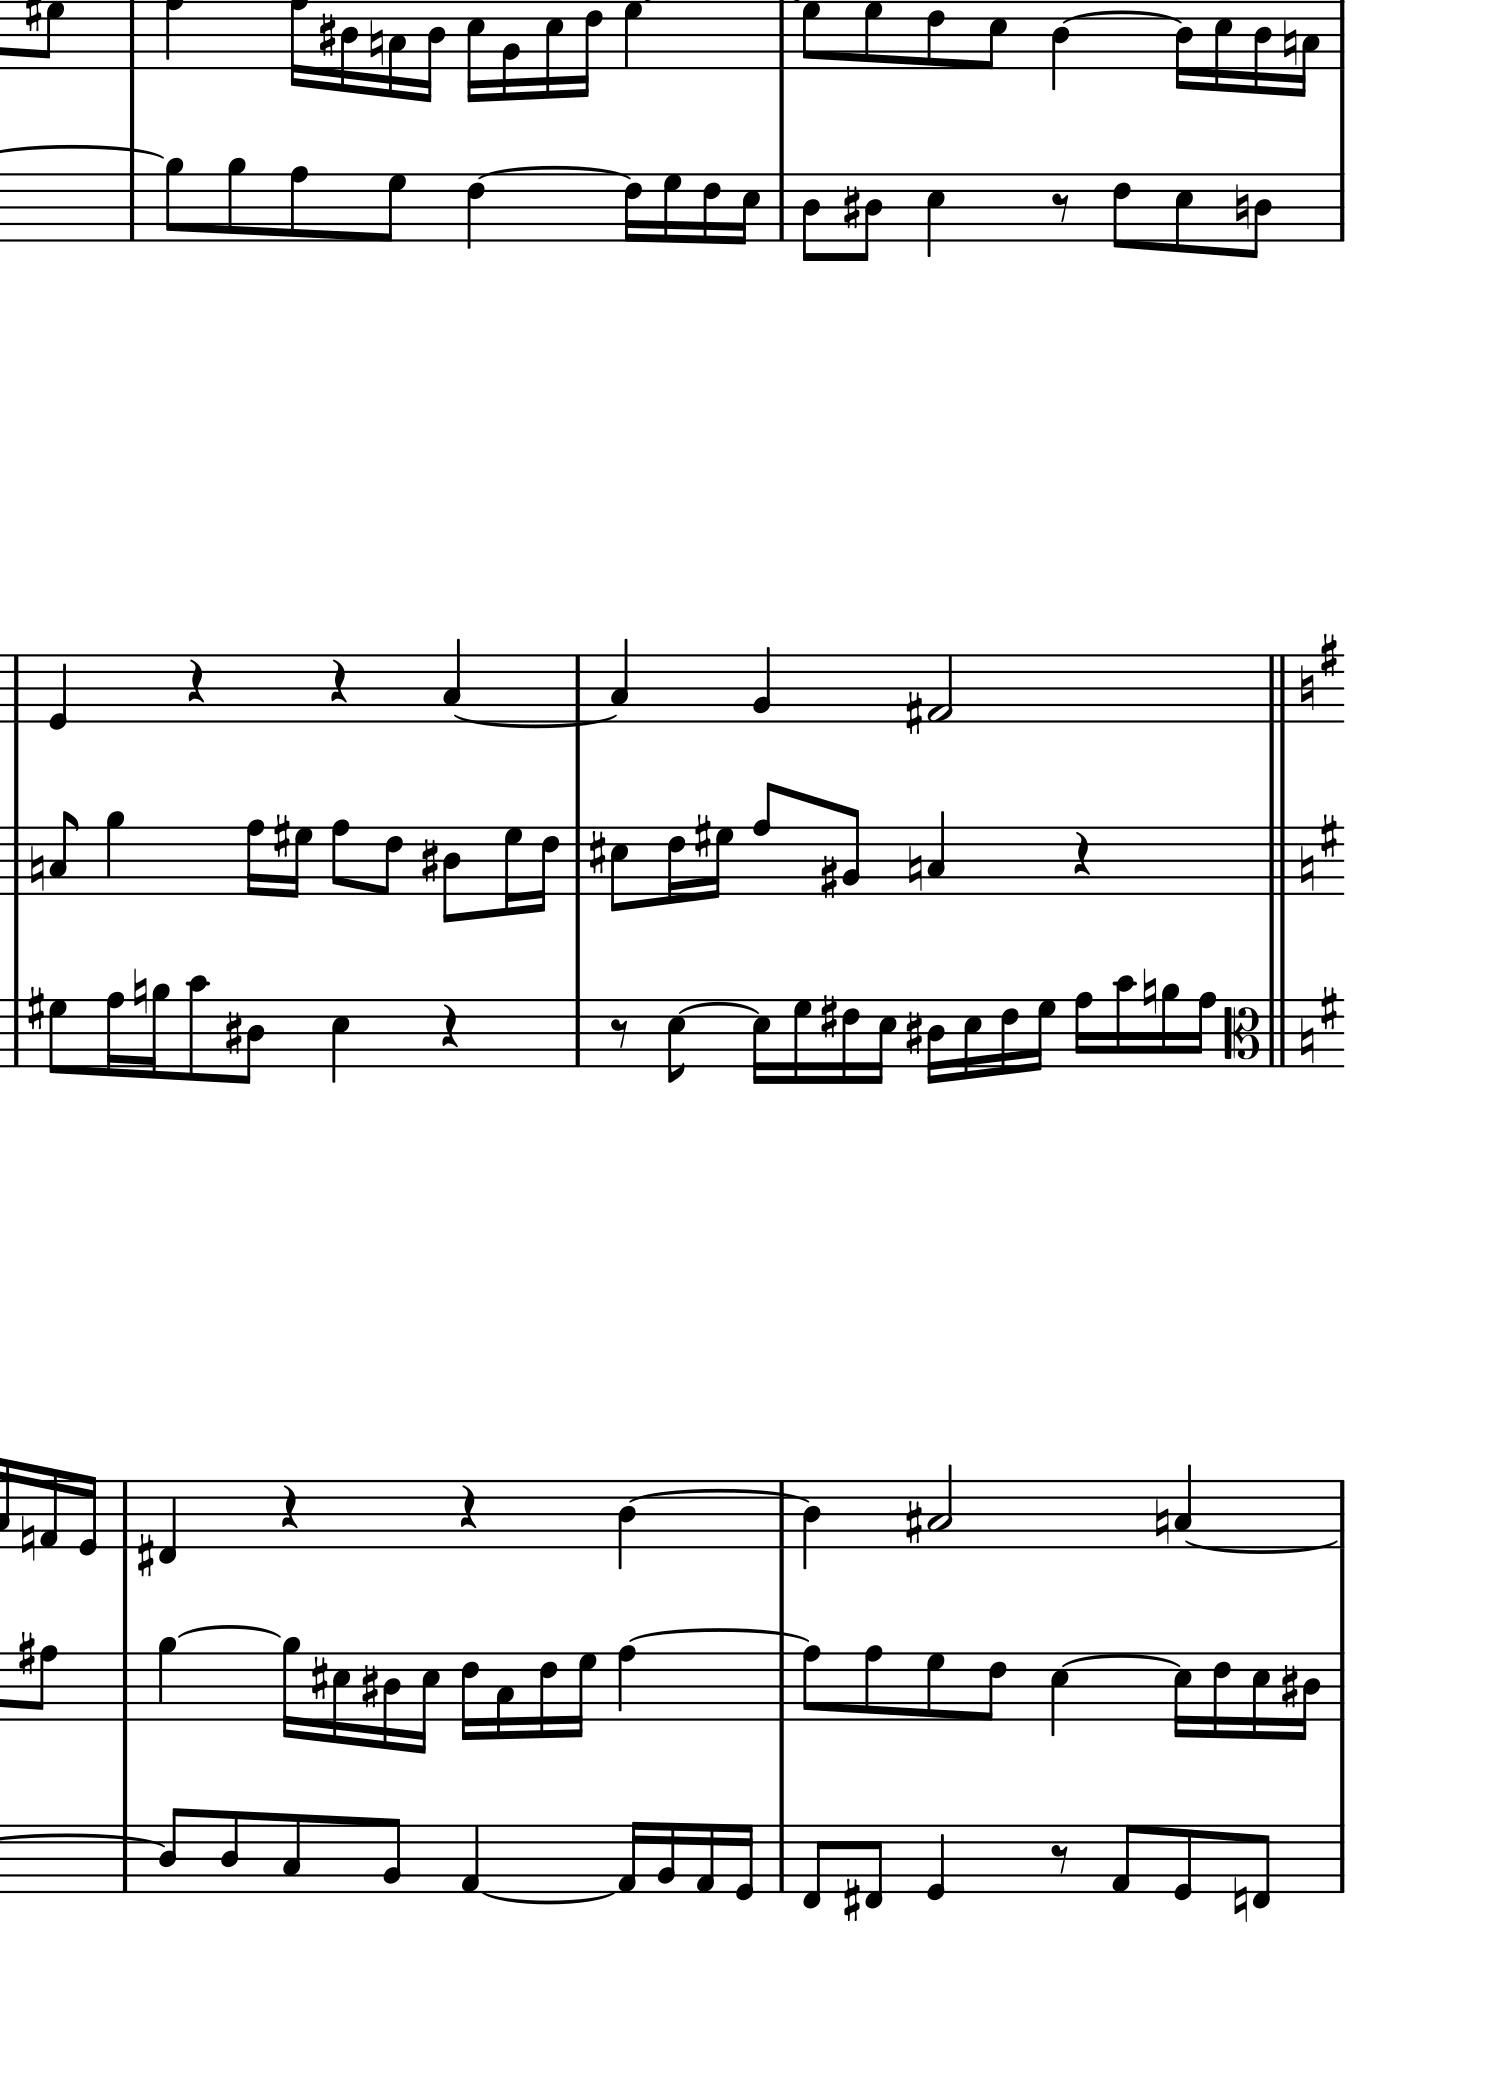16_-1: (800, 1824, 829, 1909), (863, 1822, 884, 1909)
16_0: (731, 1824, 754, 1902), (76, 1473, 96, 1557)
16_1: (616, 1819, 644, 1894), (693, 1820, 717, 1896), (39, 1465, 59, 1550)
16_10: (1114, 974, 1136, 1072)
16_2: (498, 2, 521, 101), (656, 1819, 677, 1894)
16_3: (1295, 2, 1319, 96), (386, 2, 407, 100), (493, 1650, 514, 1742)
16_4: (418, 2, 447, 104), (1295, 1652, 1319, 1740), (381, 1652, 402, 1751), (1250, 2, 1271, 96), (1172, 2, 1192, 92), (339, 2, 358, 96), (924, 999, 945, 1085)
16_5: (411, 1650, 440, 1755), (868, 998, 897, 1085), (542, 2, 564, 101), (464, 2, 485, 104), (733, 172, 762, 246), (749, 998, 771, 1088), (1249, 1650, 1271, 1740), (329, 1652, 350, 1747), (1212, 2, 1233, 95), (1172, 1650, 1192, 1740), (961, 998, 982, 1081)
16_6: (574, 2, 604, 98), (530, 824, 559, 914), (841, 996, 861, 1086), (460, 1650, 481, 1740), (1210, 1650, 1231, 1740), (537, 1650, 558, 1738), (665, 824, 686, 905), (998, 998, 1019, 1077), (620, 170, 641, 244), (701, 172, 722, 244)
16_7: (567, 1649, 596, 1738), (706, 824, 734, 901), (284, 824, 312, 901), (1027, 998, 1054, 1073), (501, 823, 522, 917), (791, 995, 812, 1088), (661, 170, 681, 244)
16_8: (1188, 991, 1215, 1068), (104, 990, 125, 1078), (1070, 990, 1093, 1070), (244, 818, 265, 900)
16_9: (141, 982, 170, 1080), (280, 1634, 301, 1740), (1159, 982, 1180, 1070)
2_1: (926, 652, 953, 723)
2_3: (926, 1462, 953, 1550)
4_-1: (156, 1480, 177, 1565)
4_0: (922, 1824, 947, 1902), (47, 652, 67, 731)
4_1: (456, 1824, 481, 1894)
4_2: (751, 644, 771, 725)
4_3: (440, 636, 461, 725), (607, 636, 628, 725), (1172, 1464, 1192, 1550), (926, 810, 945, 897)
4_4: (1049, 2, 1070, 95), (616, 1478, 636, 1571), (800, 1480, 821, 1570)
4_5: (922, 170, 945, 260), (328, 998, 350, 1085), (1048, 1652, 1070, 1738)
4_6: (464, 170, 485, 249)
4_7: (620, 2, 644, 71)
4_8: (616, 1645, 636, 1722)
4_9: (103, 810, 125, 897), (156, 1636, 177, 1722)
8_-1: (1250, 1824, 1270, 1909)
8_0: (1170, 1824, 1192, 1902)
8_1: (1107, 1824, 1136, 1896)
8_10: (183, 975, 209, 1083)
8_2: (839, 803, 861, 897), (379, 1816, 402, 1894)
8_3: (47, 811, 79, 897), (280, 1812, 301, 1894)
8_4: (156, 1806, 185, 1894), (855, 172, 882, 264), (1244, 174, 1271, 260), (236, 1001, 264, 1085), (439, 826, 461, 925), (799, 170, 821, 264), (217, 1809, 239, 1894)
8_5: (664, 998, 686, 1085), (1172, 172, 1194, 255), (607, 824, 628, 913)
8_6: (374, 824, 403, 897), (979, 1650, 1006, 1722), (1111, 172, 1131, 251), (924, 2, 945, 72)
8_7: (378, 172, 407, 243), (979, 5, 1008, 71), (39, 2, 64, 71), (47, 999, 67, 1077), (922, 1652, 945, 1722), (799, 2, 821, 71), (861, 2, 882, 71)
8_8: (751, 779, 778, 897), (29, 1644, 56, 1722), (799, 1644, 821, 1722), (861, 1644, 884, 1722), (288, 164, 309, 244), (329, 818, 350, 897)
8_9: (225, 154, 246, 243), (162, 157, 183, 243)
Cclef: (1221, 999, 1262, 1067)
Double_barline: (1263, 827, 1291, 895), (1263, 656, 1291, 721), (1266, 998, 1291, 1068)
Natural: (26, 842, 45, 893), (1295, 1017, 1316, 1064), (1279, 14, 1297, 67), (1295, 665, 1315, 713), (905, 844, 922, 895), (129, 966, 146, 1017), (1229, 1873, 1247, 1925), (1295, 845, 1315, 892), (18, 1514, 35, 1563), (1231, 182, 1249, 230), (366, 16, 382, 66), (1139, 966, 1156, 1015), (1152, 1497, 1168, 1547)
Rests4: (183, 659, 206, 707), (326, 659, 349, 707), (439, 1003, 460, 1051), (1070, 831, 1091, 877), (456, 1485, 477, 1531), (278, 1485, 299, 1530)
Rests8: (607, 1015, 630, 1051), (1048, 1841, 1070, 1877), (1049, 190, 1070, 223)
Sharp: (1316, 631, 1339, 680), (1316, 811, 1339, 860), (1316, 983, 1339, 1032), (585, 826, 606, 876), (689, 811, 710, 861), (902, 1007, 922, 1057), (902, 1497, 922, 1547), (358, 1661, 379, 1711), (1278, 1660, 1299, 1710), (902, 691, 922, 737), (816, 855, 837, 901), (818, 993, 837, 1043), (270, 811, 289, 860), (222, 1007, 241, 1056), (135, 1530, 154, 1578), (841, 1875, 860, 1923), (419, 834, 437, 885), (309, 1653, 326, 1705), (16, 1631, 35, 1677), (841, 182, 858, 231), (317, 11, 334, 59), (26, 987, 43, 1035), (22, 2, 42, 34)
Single_barline: (771, 1652, 792, 1721), (771, 1481, 792, 1549), (116, 1653, 137, 1721), (1331, 2, 1350, 71), (771, 2, 791, 69), (122, 174, 141, 241), (771, 174, 791, 241), (1331, 174, 1350, 241), (1331, 1653, 1350, 1721), (771, 1825, 791, 1893), (116, 1825, 135, 1893), (1331, 1825, 1350, 1893), (122, 2, 141, 67), (567, 999, 587, 1065), (114, 1481, 133, 1547), (1331, 1481, 1350, 1547), (567, 826, 585, 895), (567, 656, 587, 718), (6, 656, 24, 721), (6, 827, 24, 893), (6, 999, 22, 1068)
Slur: (628, 1628, 810, 1644), (453, 712, 624, 728), (628, 1488, 816, 1502), (485, 1891, 616, 1906), (1064, 1653, 1183, 1668), (177, 1624, 281, 1637), (681, 1001, 765, 1012)
